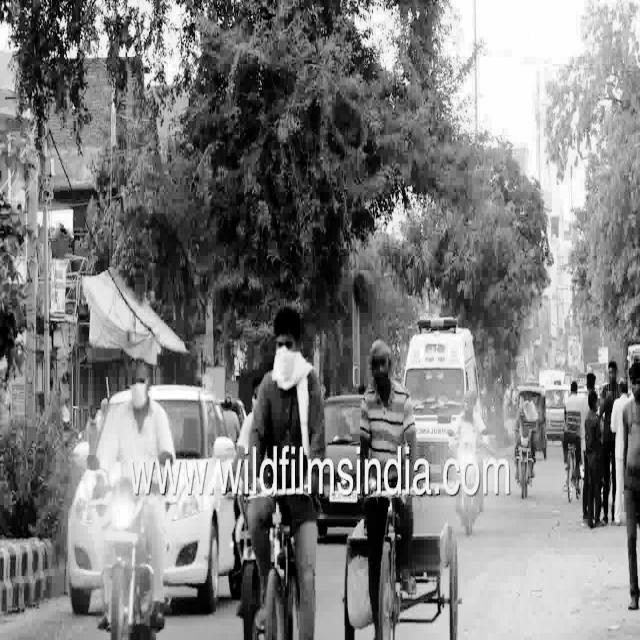Ambulance: (403, 310, 480, 458)
